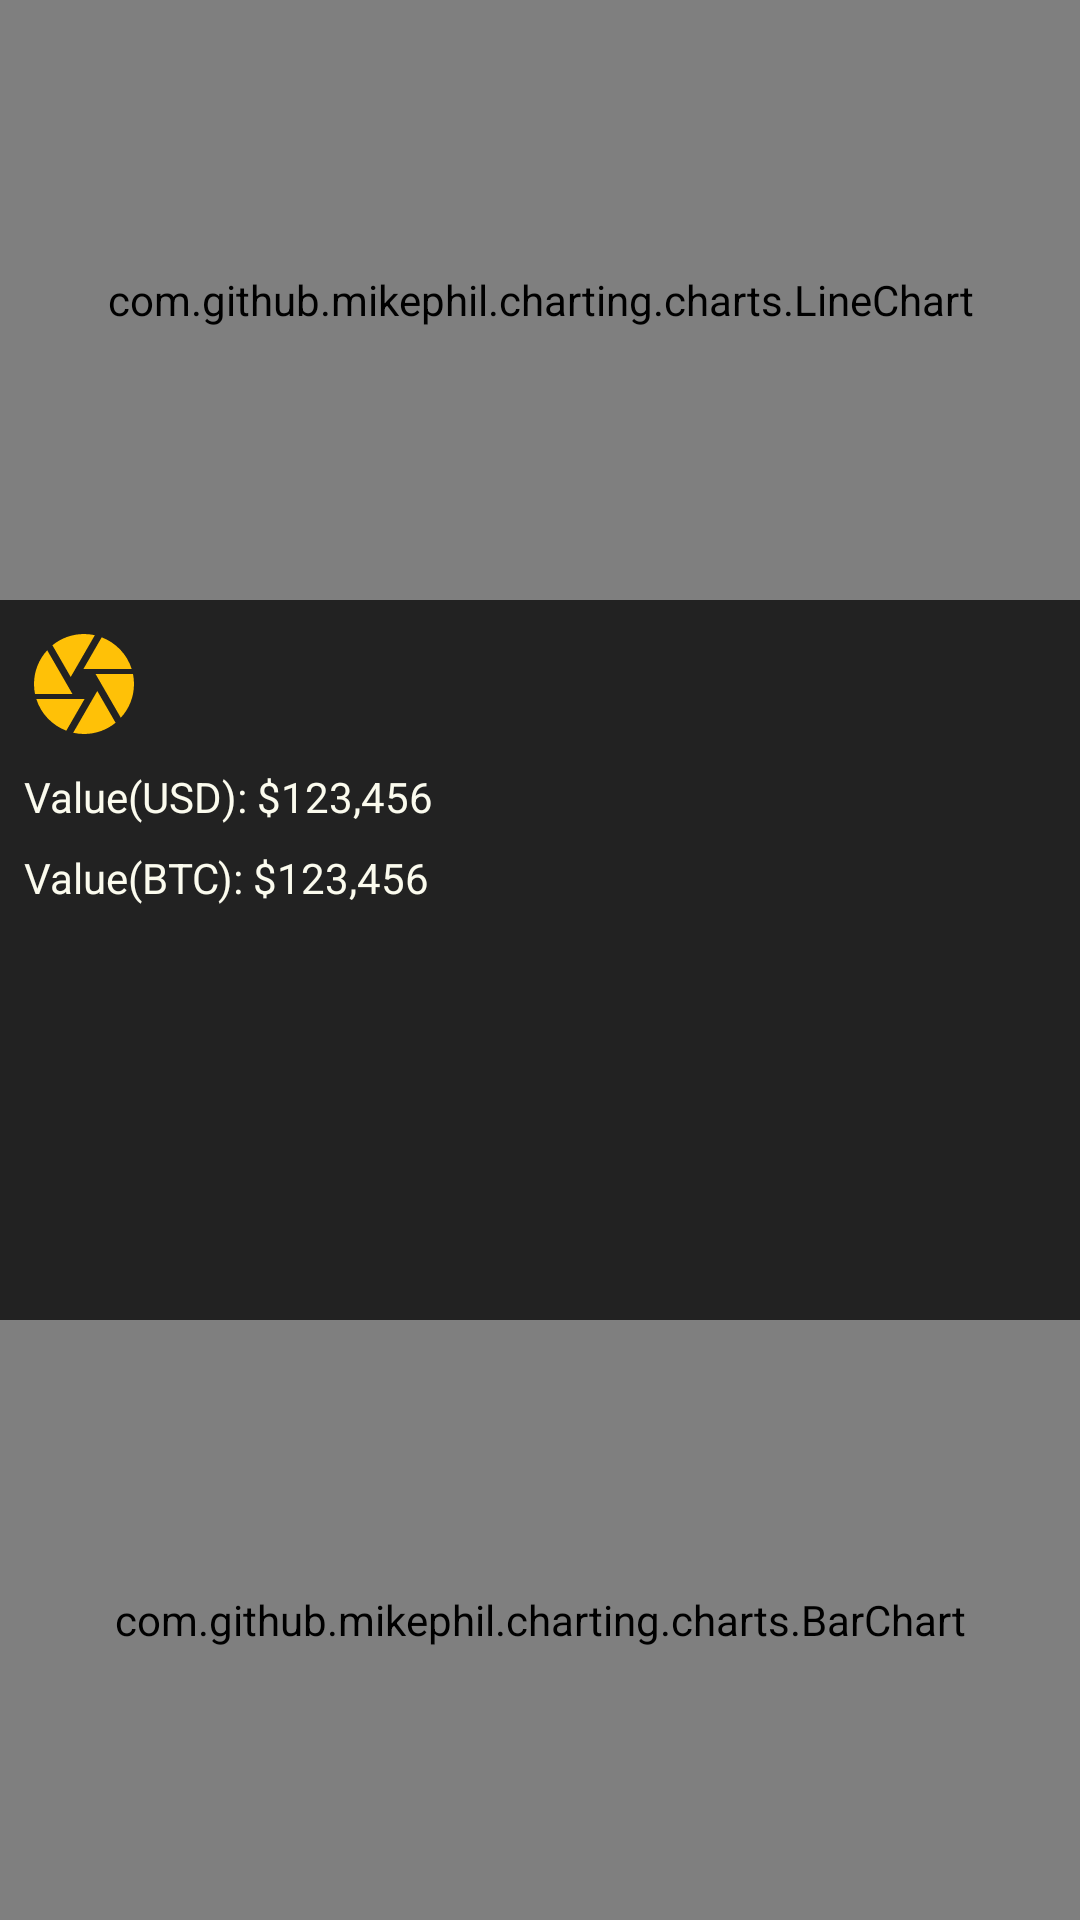

Icons on this 1080w x 1920h Android screen, each with the point to tap as point (x, y):
snapshot: point (84, 684)
